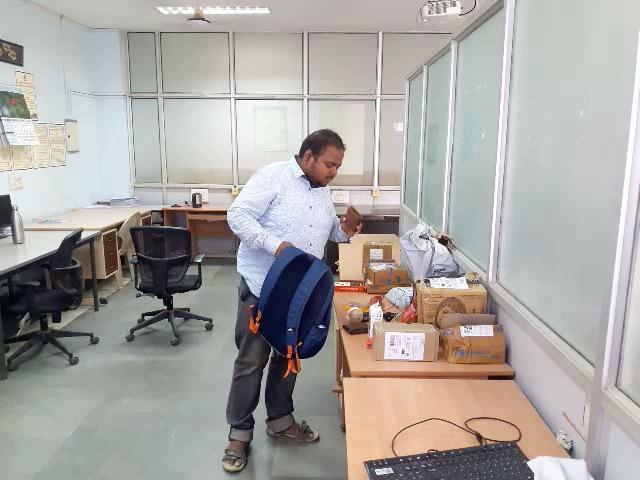shoplifting: (234, 204, 373, 373)
